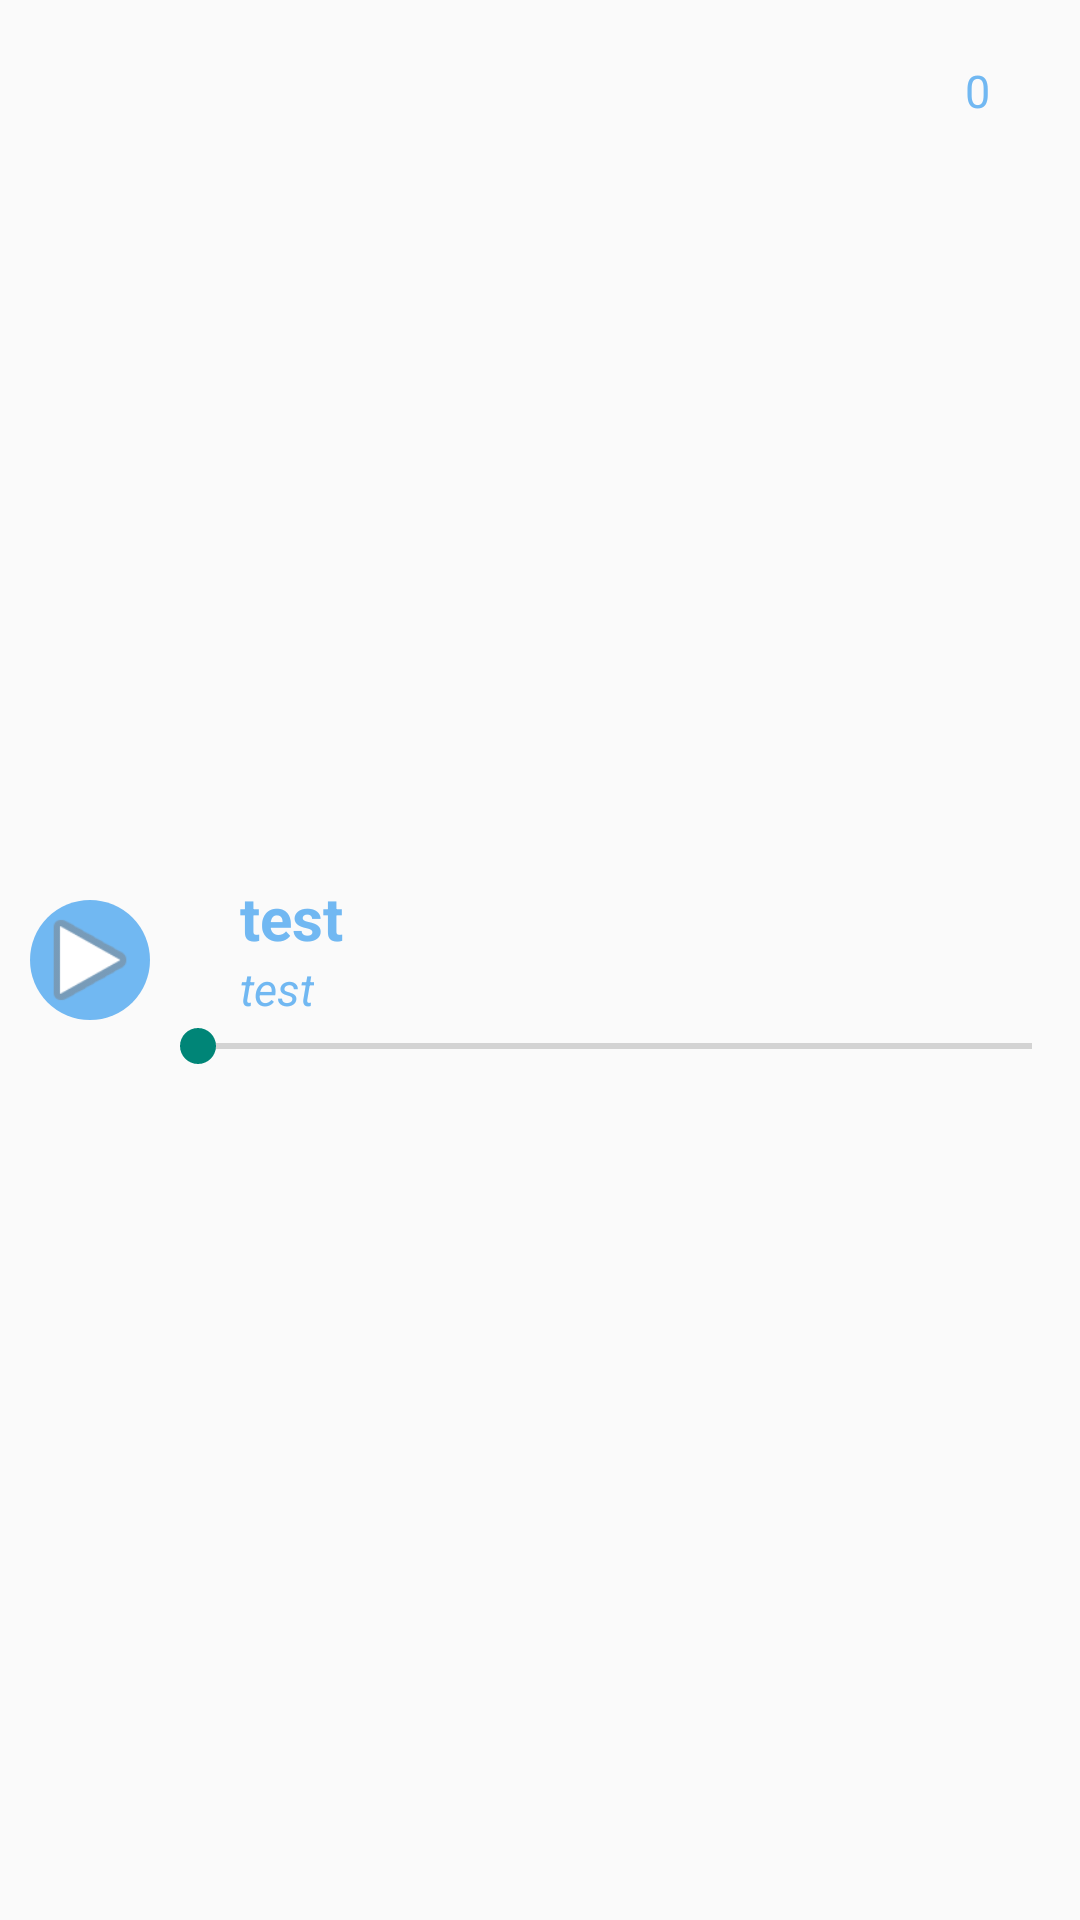

Screen size 1080 × 1920. Icon name, then its center in pixels as (x,y):
play: (90,960)
